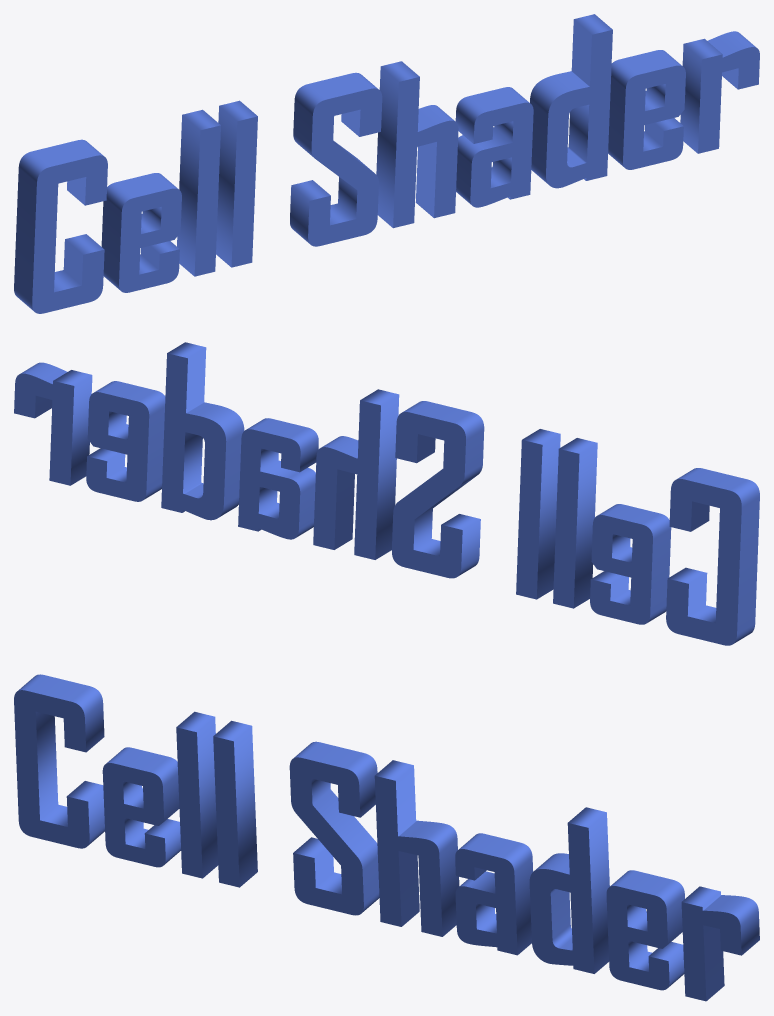
3 views of the same model, one above another, from view 1: azimuth 30°, elevation 25°; view 2: azimuth 150°, elevation 25°; view 3: azimuth 330°, elevation 25° (orthographic).
Parts seen in each view (by area): view 1: Text.001; view 2: Text.001; view 3: Text.001.
Part boxes in pixels (x1,y1,x2,y2): Text.001: [14, 14, 759, 313]; Text.001: [14, 342, 759, 645]; Text.001: [14, 674, 759, 1001].
Size of the model in its own units: 3.21 by 0.6489 by 0.1843.
